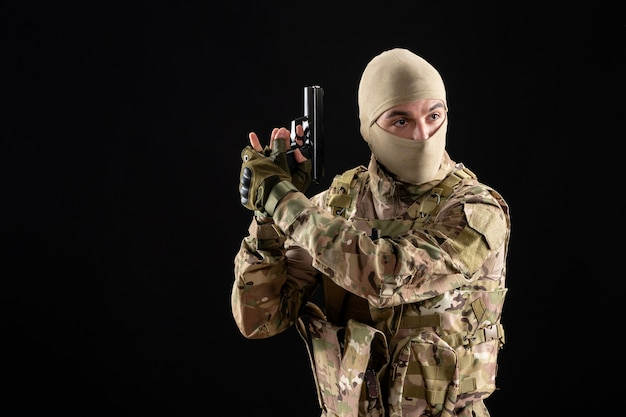gun: (268, 86, 318, 184)
